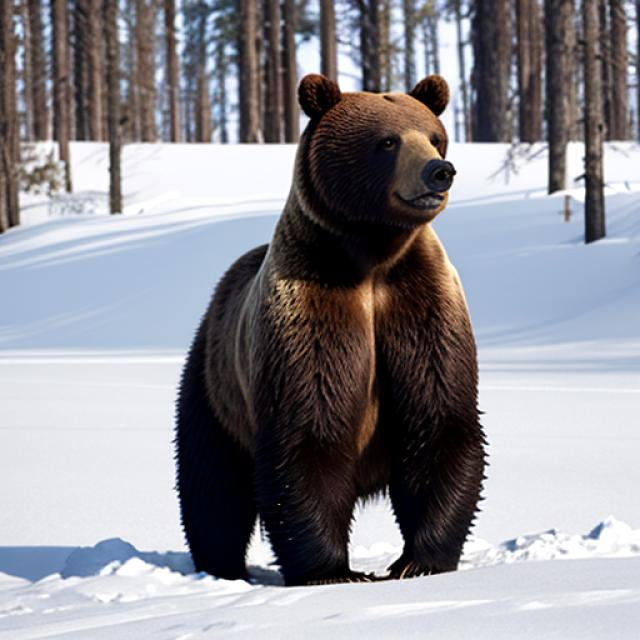bear: (271, 67, 486, 275)
